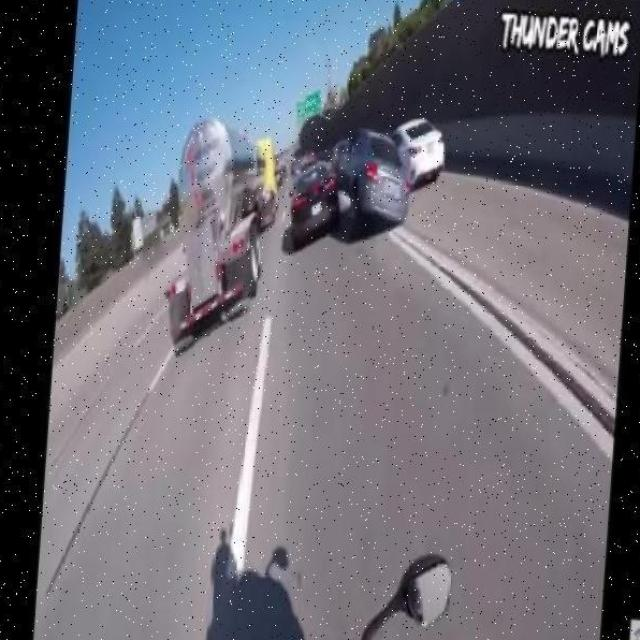accident: (275, 116, 421, 261)
